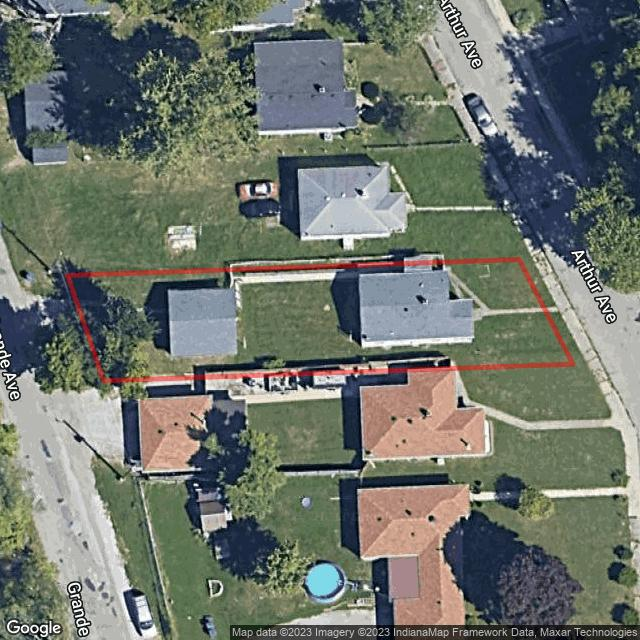Driveway: (448, 268, 542, 321)
Extra Sidewalk: (532, 253, 601, 362)
House: (359, 271, 472, 348)
Other: (168, 289, 236, 356)
Sidewalk: (449, 270, 542, 321), (229, 271, 340, 308), (342, 280, 359, 324), (336, 268, 403, 279)
